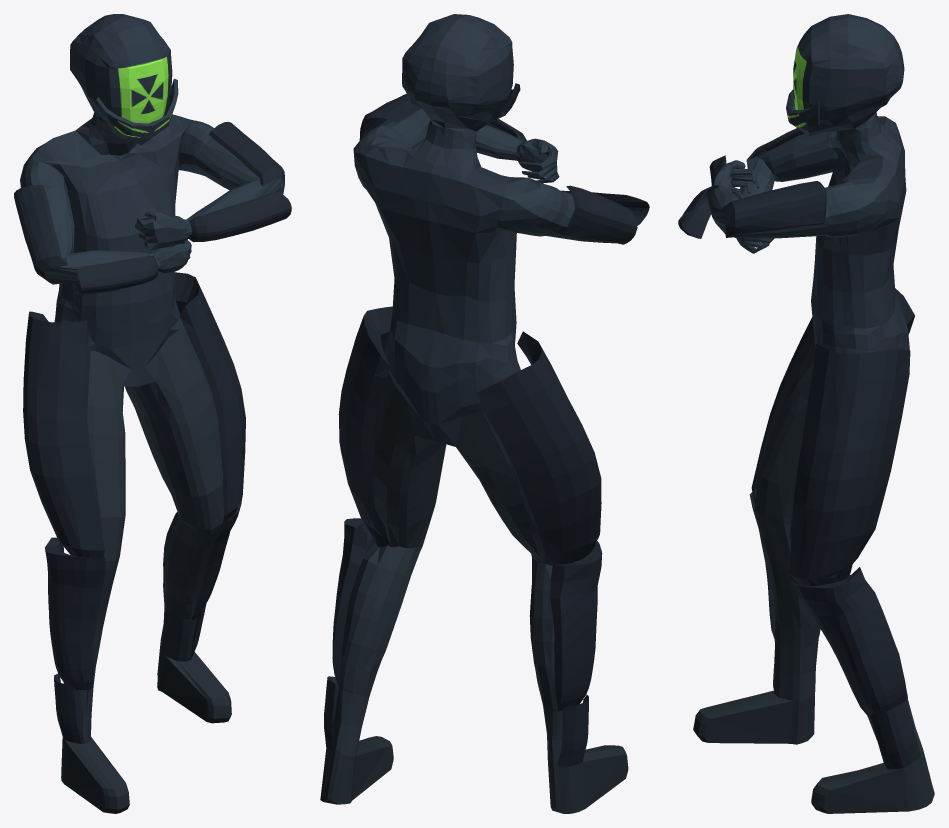
Rendered from Bastion_WF_000012.obj.
The picture shows the model from 3 angles, left to right: view 1: azimuth 30°, elevation 25°; view 2: azimuth 150°, elevation 25°; view 3: azimuth 270°, elevation 25°; orthographic projection. The views are drawn at different scales.
Parts seen in each view (by area): view 1: Cube.002; view 2: Cube.002; view 3: Cube.002.
Part boxes in pixels (x1,y1,x2,y2): Cube.002: [14, 14, 291, 813]; Cube.002: [320, 14, 649, 813]; Cube.002: [678, 14, 934, 813].
Size of the model in its own units: 1.32 by 3.82 by 1.17.
